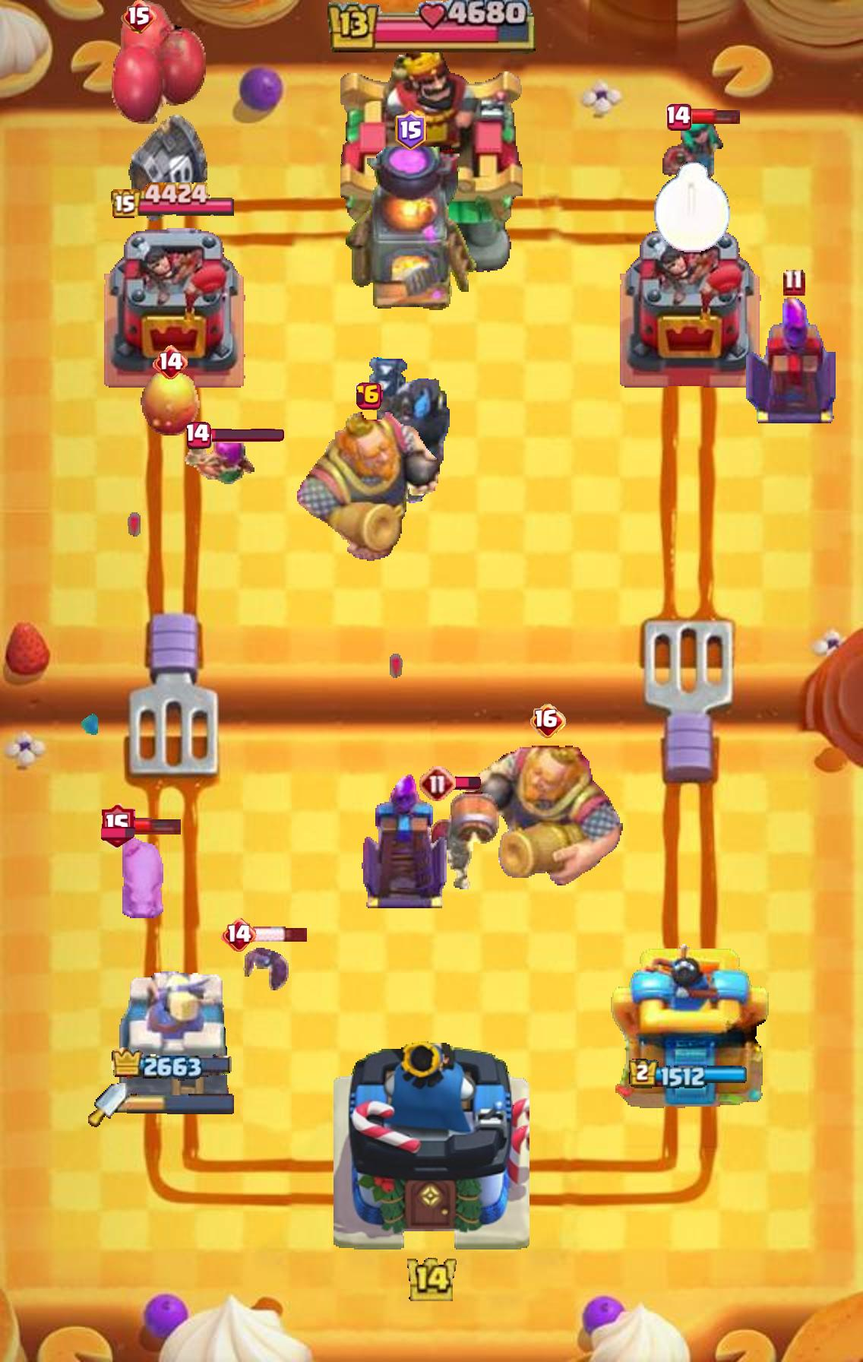bar: (209, 429, 285, 443), (253, 926, 309, 944), (688, 108, 741, 126), (131, 817, 181, 835), (452, 776, 481, 791)
bar-level: (101, 803, 136, 849), (419, 765, 456, 802), (394, 111, 427, 150), (531, 704, 566, 739), (152, 345, 188, 379), (221, 918, 256, 952), (121, 0, 157, 33), (355, 383, 383, 411), (186, 421, 212, 450), (666, 103, 692, 131), (782, 268, 805, 296)
